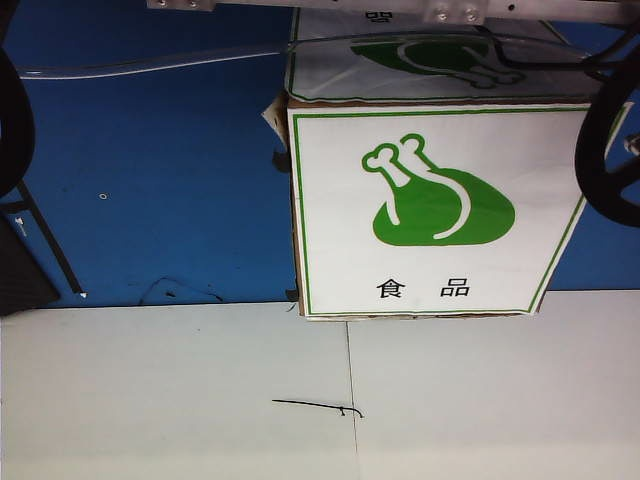Cube_food: (355, 126, 524, 304)
